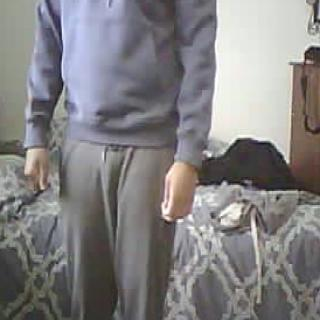Blue Hoodie: (29, 0, 223, 141)
Gray Sweatpants: (56, 141, 175, 320)
